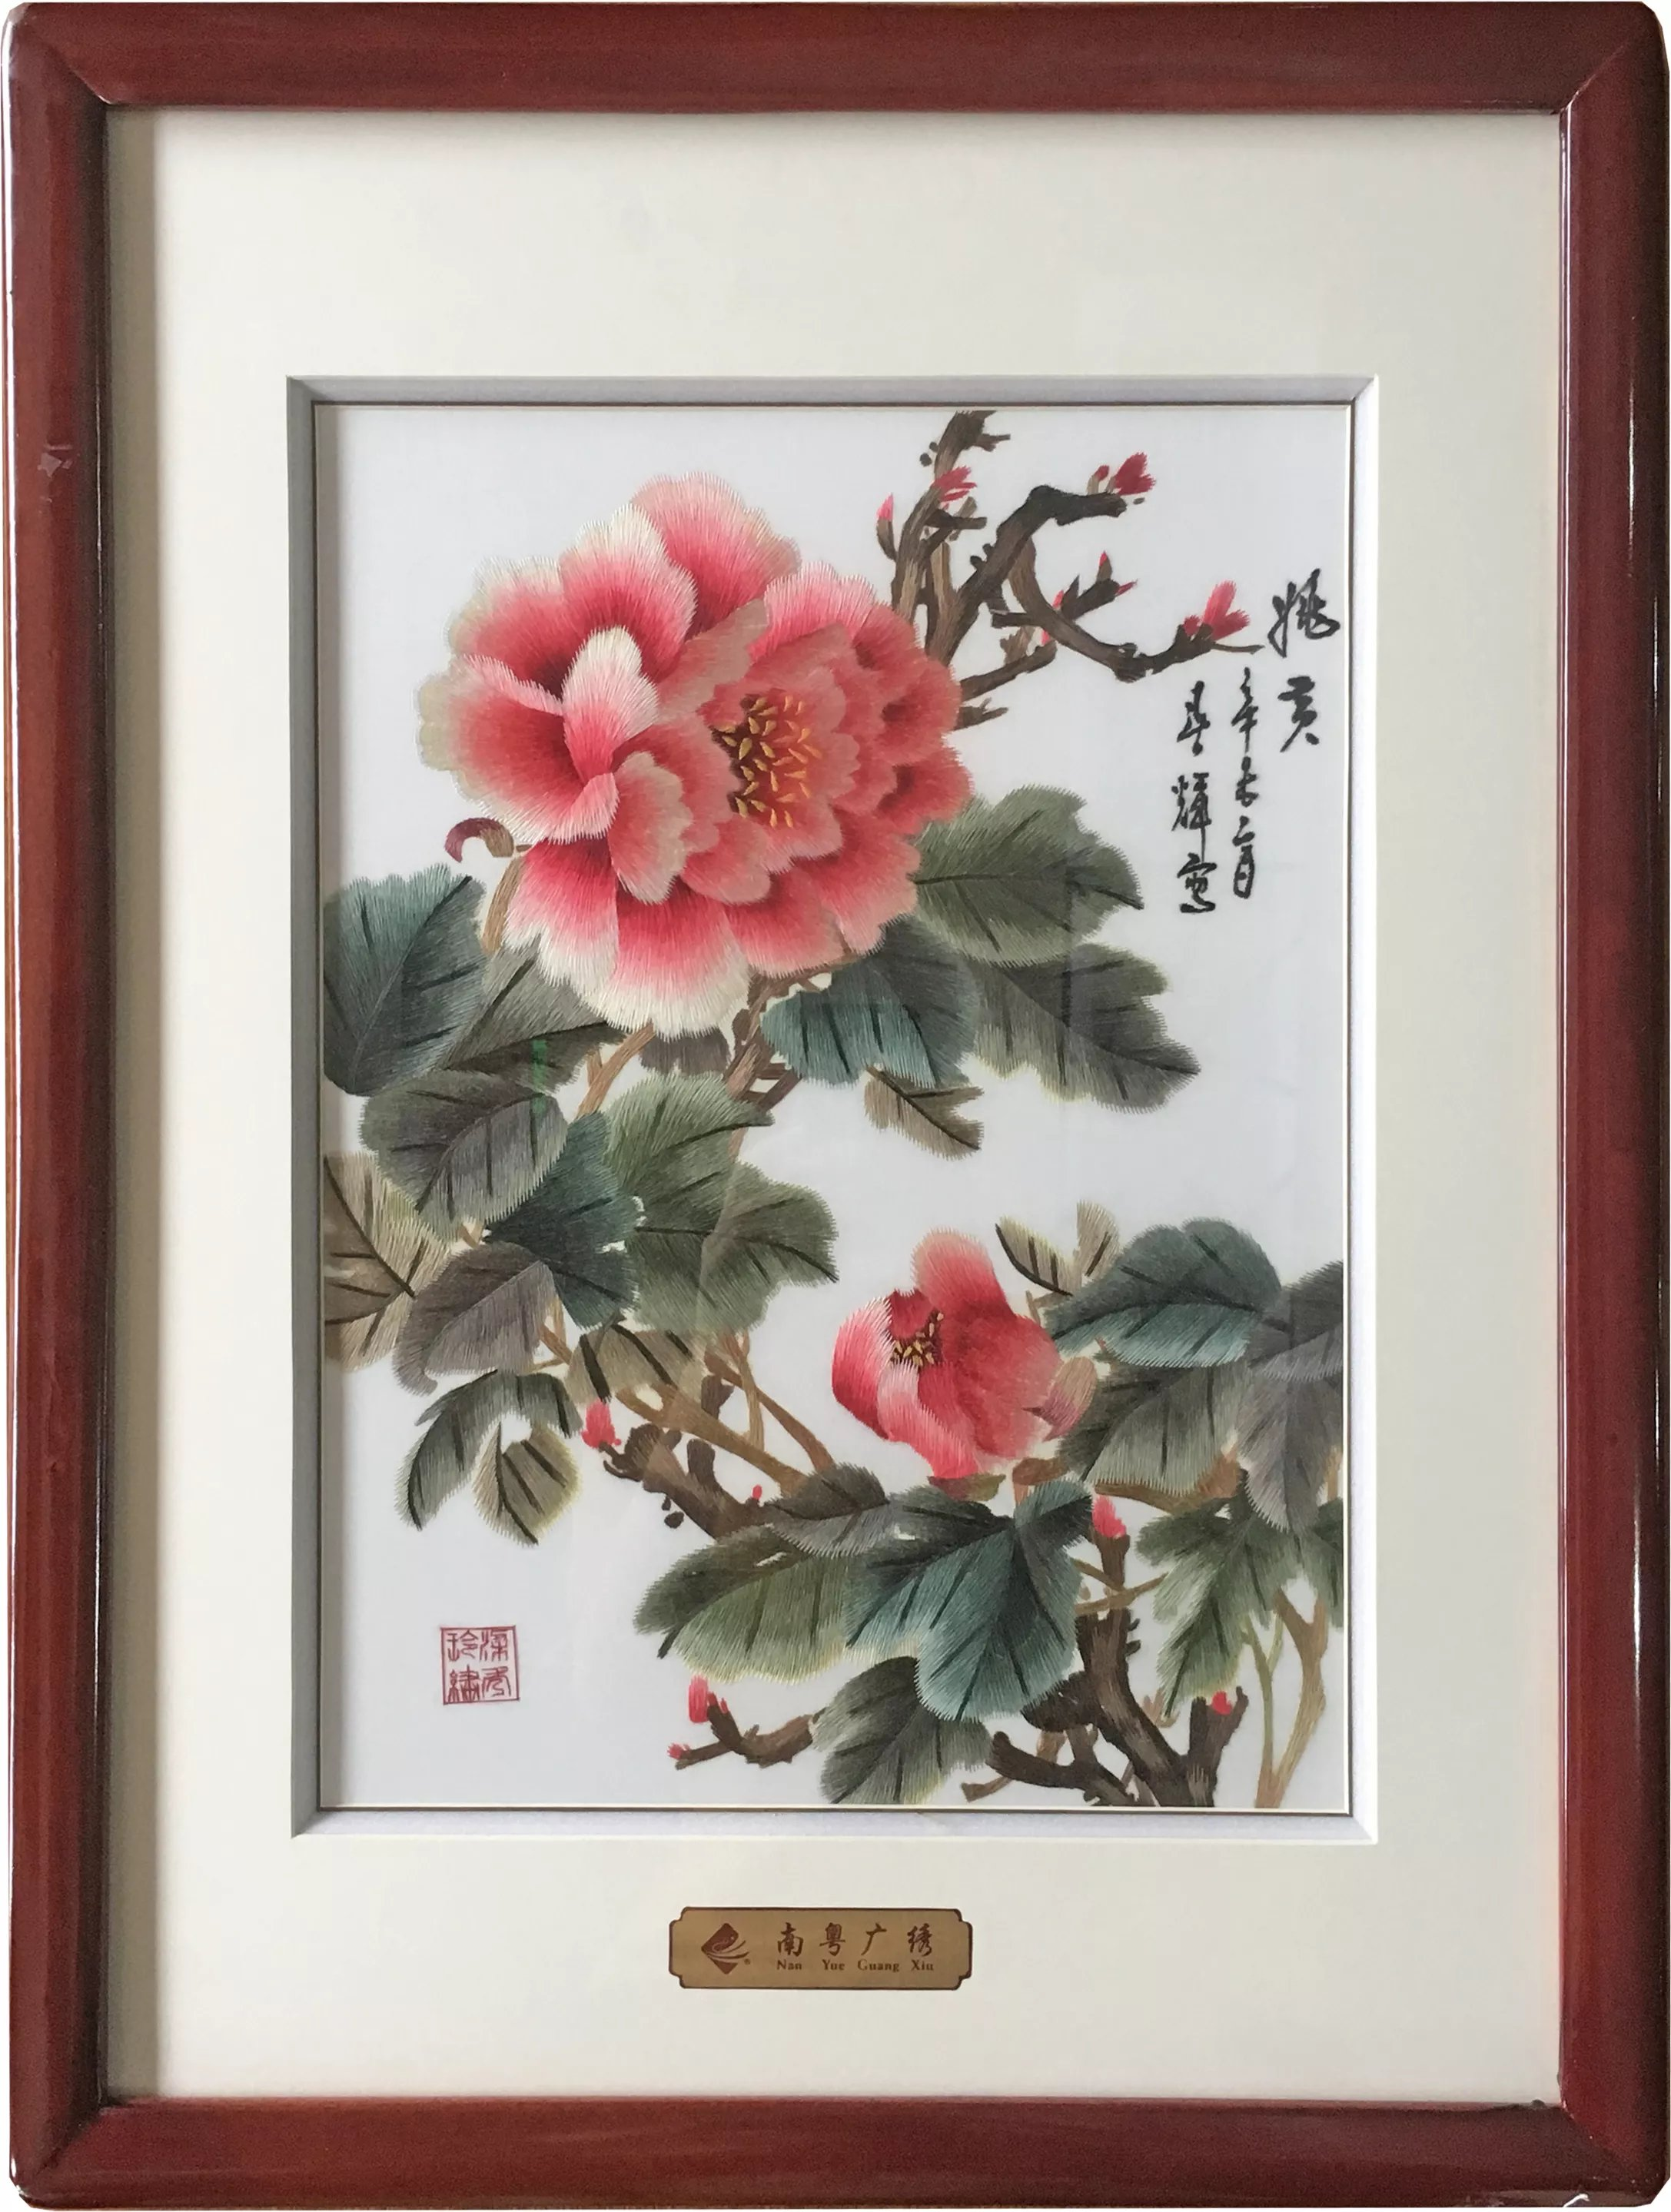flower: (414, 476, 979, 1032), (832, 1231, 1090, 1490)
